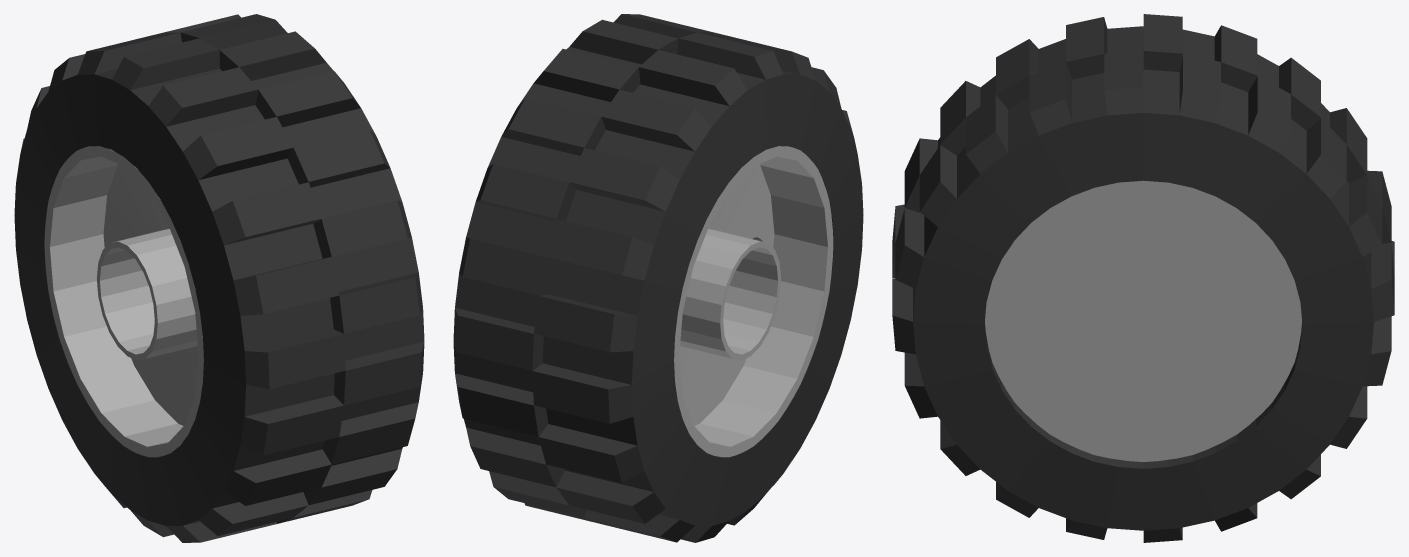
File: ruedaDelIzq.obj
3 renders of one model, left to right at view 1: azimuth 30°, elevation 25°; view 2: azimuth 150°, elevation 25°; view 3: azimuth 270°, elevation 25°, orthographic.
Visible parts, largest first — view 1: ruedaDelIzq:polySurface105; view 2: ruedaDelIzq:polySurface105; view 3: ruedaDelIzq:polySurface105.
Part boxes in pixels (left/top/right/bottom): ruedaDelIzq:polySurface105: left=14, top=14, right=424, bottom=542; ruedaDelIzq:polySurface105: left=453, top=14, right=863, bottom=542; ruedaDelIzq:polySurface105: left=892, top=14, right=1394, bottom=542.
Size of the model in its own units: 1.25 by 2.85 by 2.85.
Materials: 3 (3 with a texture image).
